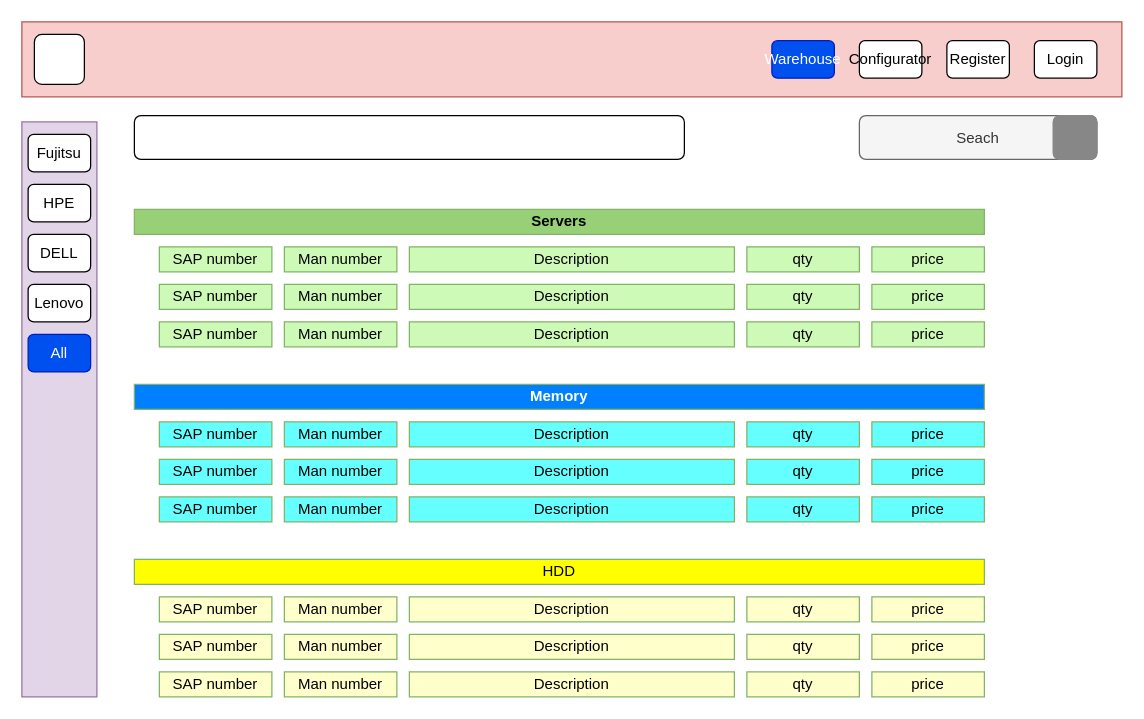
Image size: 1144x719. Some labels were removed from this diagram. The box of each missing label's shape, as (x1, y1, x2, y2) in pixels:
<h1> Materials on stock </h1>: (133, 114, 684, 159)
LOGO: (33, 33, 84, 84)
Submit: (1052, 114, 1097, 159)
